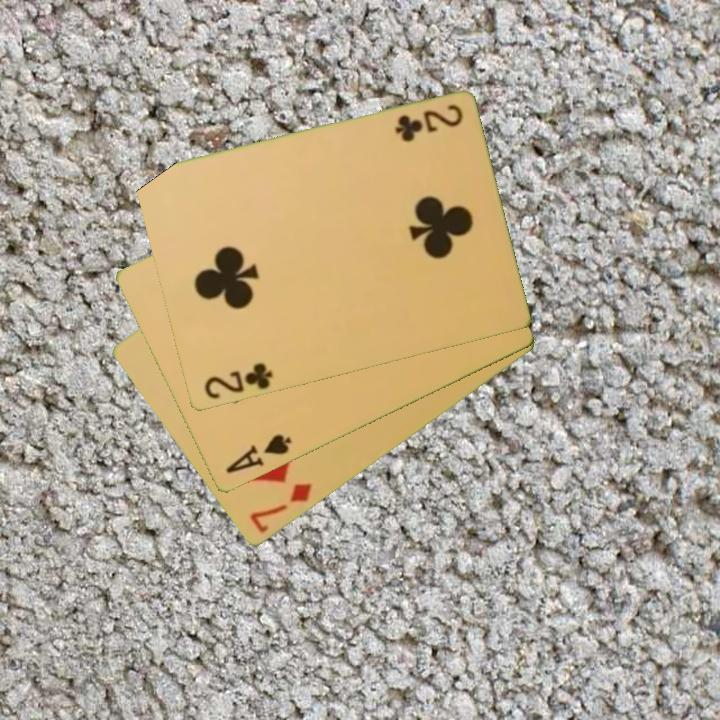2c: (200, 359, 275, 403), (391, 101, 466, 144)
7d: (246, 480, 315, 537)
As: (222, 431, 295, 477)
